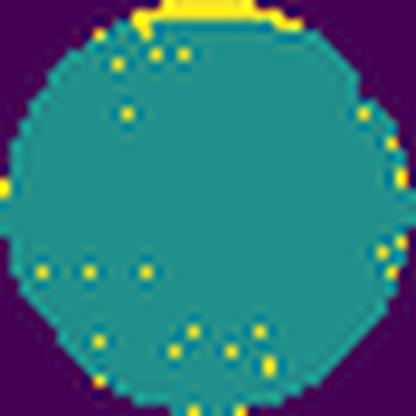Edge-Loc: (132, 0, 304, 36)
